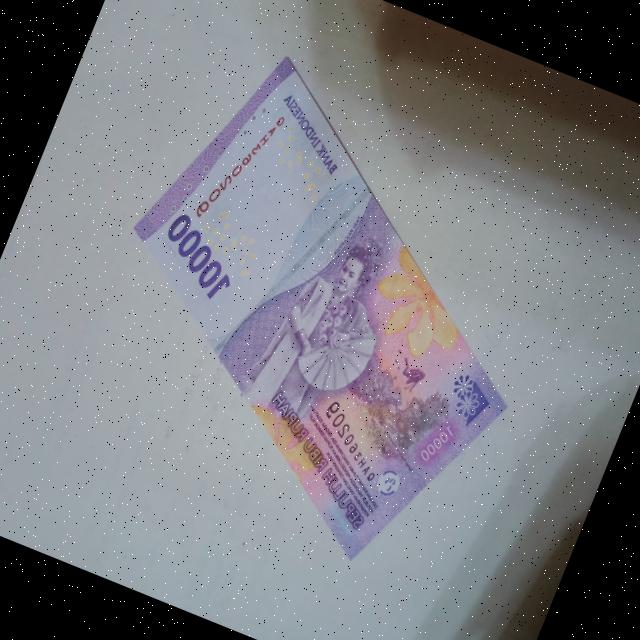10K: (39, 23, 602, 606)
